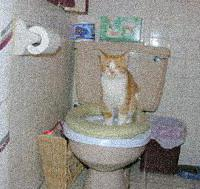Bote de Basura: (133, 114, 186, 176)
Otro Obstaculo: (85, 50, 141, 128)
Sanitario: (61, 45, 168, 188)
